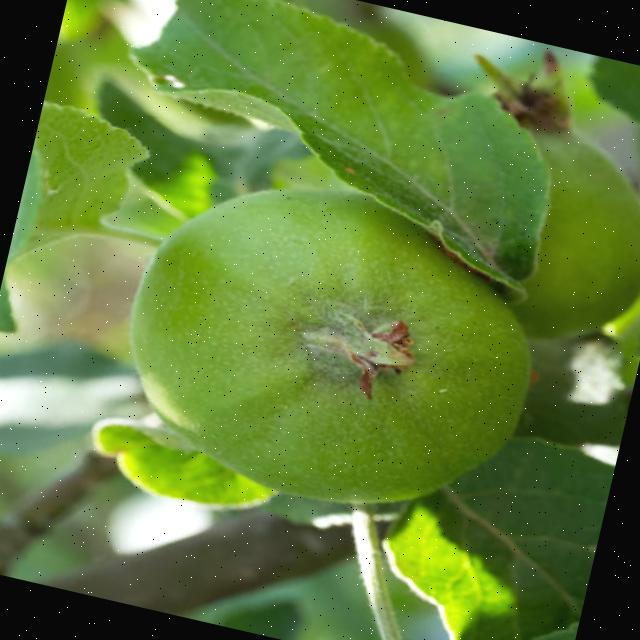Unripe: (98, 147, 563, 540)
